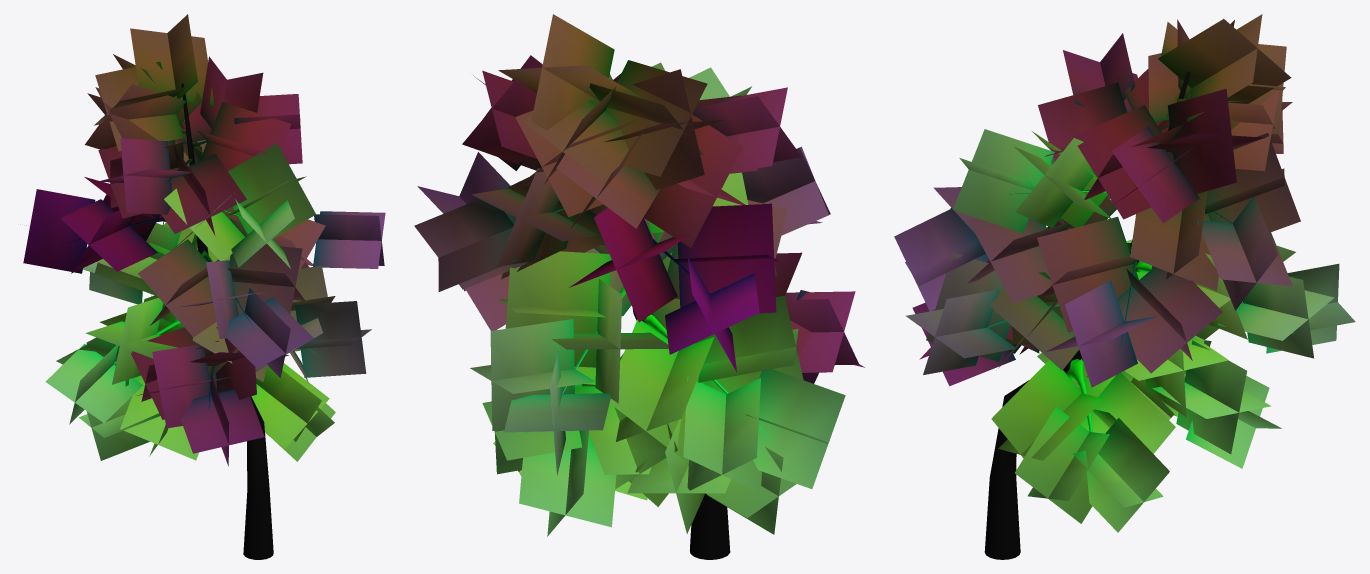
The model's file is URP_P7_Tree_11_LOD_2.fbx.
3 renders of one model, left to right at view 1: azimuth 30°, elevation 25°; view 2: azimuth 150°, elevation 25°; view 3: azimuth 270°, elevation 25°, orthographic. The views are drawn at different scales.
Visible parts, largest first — view 1: Tree_11_LOD_2; view 2: Tree_11_LOD_2; view 3: Tree_11_LOD_2.
Boxes of the visible parts, x1,y1,x2,y2 form: Tree_11_LOD_2: (23, 14, 385, 559); Tree_11_LOD_2: (414, 14, 864, 559); Tree_11_LOD_2: (894, 14, 1355, 559).
Size of the model in its own units: 294 by 403 by 308.
